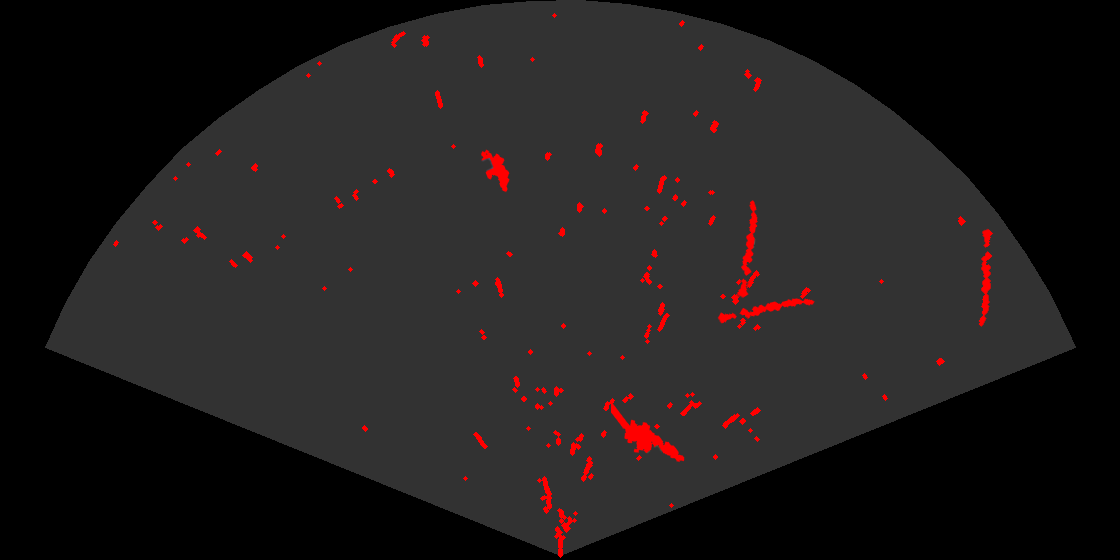AUV: (479, 148, 511, 194)
chain: (716, 297, 816, 325), (736, 199, 759, 300), (977, 228, 995, 328)
frogman: (611, 403, 686, 464)
